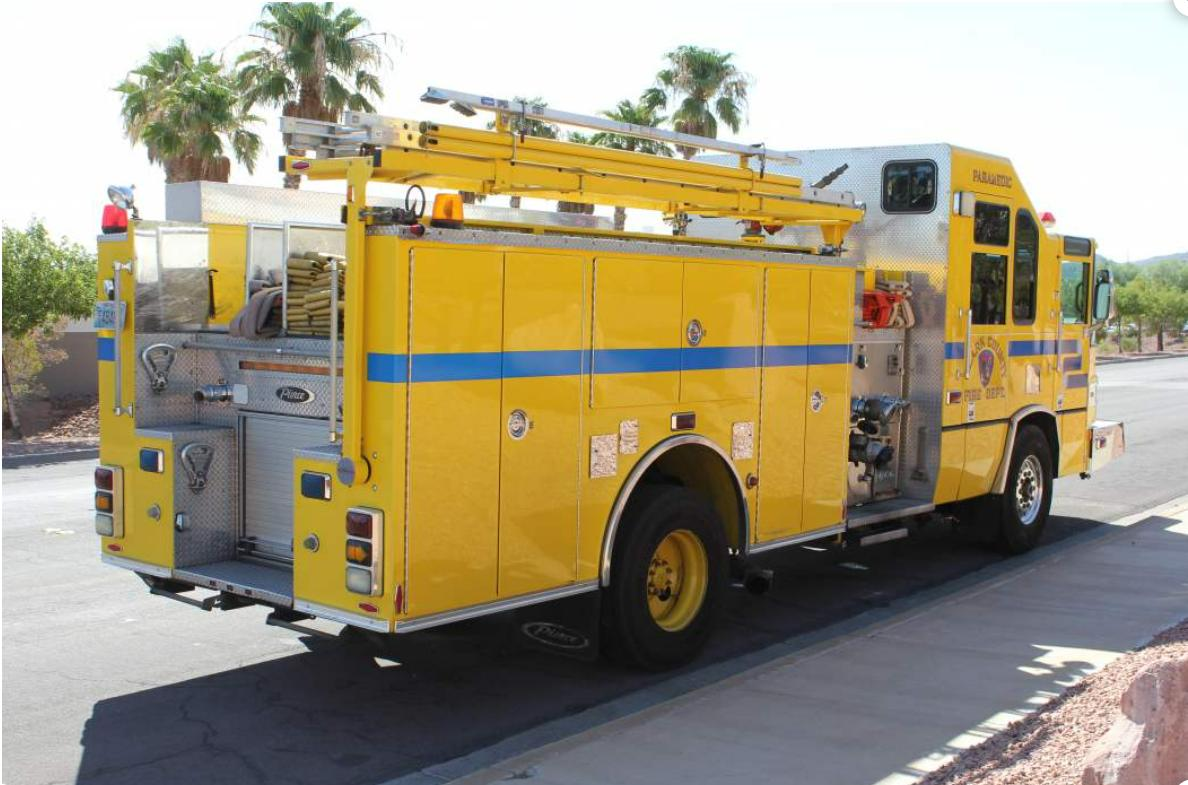firetruck_off: (90, 90, 1126, 678)
